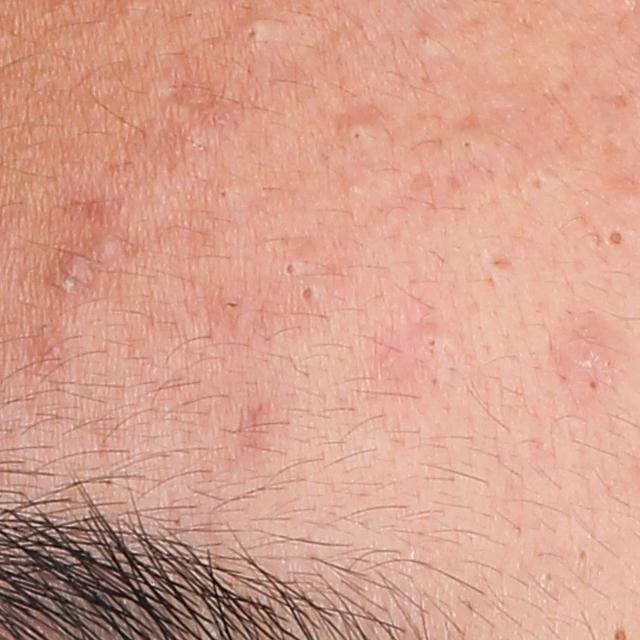comedo: (239, 19, 268, 52), (95, 235, 118, 261), (278, 257, 300, 282), (457, 135, 477, 155), (297, 280, 314, 302), (528, 172, 545, 193), (424, 334, 444, 351), (585, 379, 606, 390)
